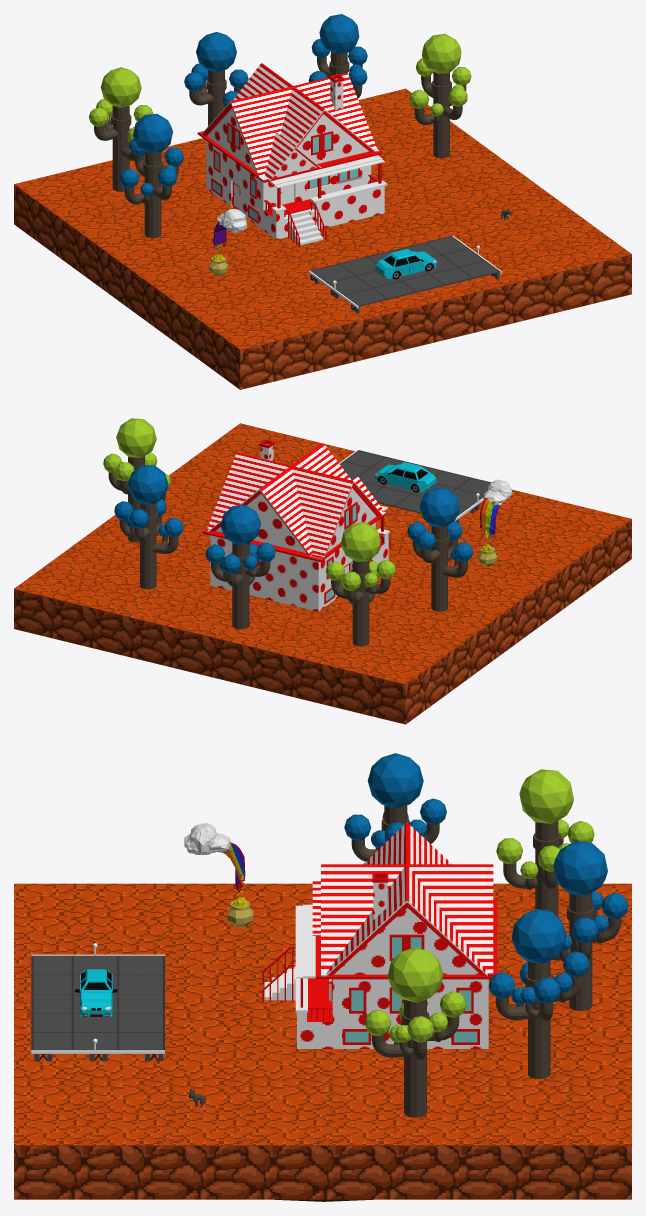
3 views of the same model, one above another, from view 1: azimuth 30°, elevation 25°; view 2: azimuth 150°, elevation 25°; view 3: azimuth 270°, elevation 25° (orthographic). The views are drawn at different scales.
Parts seen in each view (by area): view 1: Cube.001, Cube.196, VEHICLES_CAR, OBJRANDOM_RAINBOW; view 2: Cube.001, Cube.196, OBJRANDOM_RAINBOW, VEHICLES_CAR; view 3: Cube.001, Cube.196, OBJRANDOM_RAINBOW, VEHICLES_CAR.
Boxes of the visible parts, <box> form: Cube.001: <box>14,14,631,389</box>; Cube.196: <box>197,63,387,246</box>; VEHICLES_CAR: <box>375,249,436,279</box>; OBJRANDOM_RAINBOW: <box>209,209,247,276</box>; Cube.001: <box>14,418,631,724</box>; Cube.196: <box>202,439,390,611</box>; OBJRANDOM_RAINBOW: <box>478,479,512,566</box>; VEHICLES_CAR: <box>374,462,436,492</box>; Cube.001: <box>14,753,631,1199</box>; Cube.196: <box>262,823,497,1048</box>; OBJRANDOM_RAINBOW: <box>184,823,253,926</box>; VEHICLES_CAR: <box>75,969,117,1016</box>.
Bounding box in the file's own units: 4000 × 1730 × 4000.
40 materials, 5 textured.
